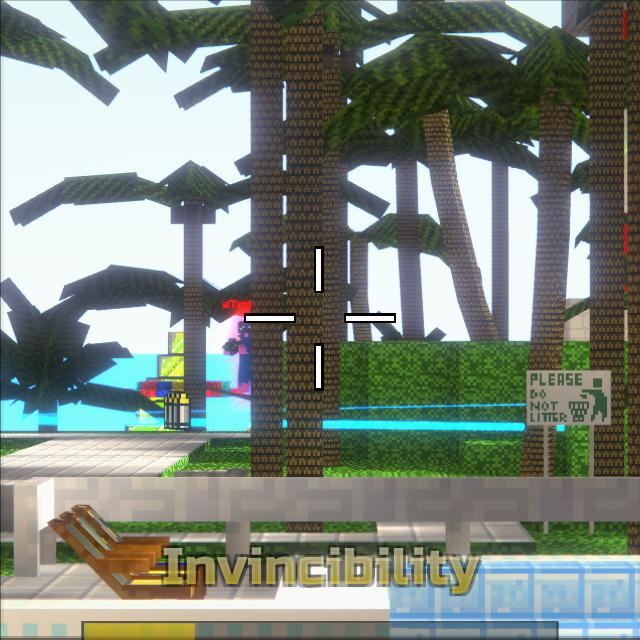Enemy: (222, 317, 251, 389)
